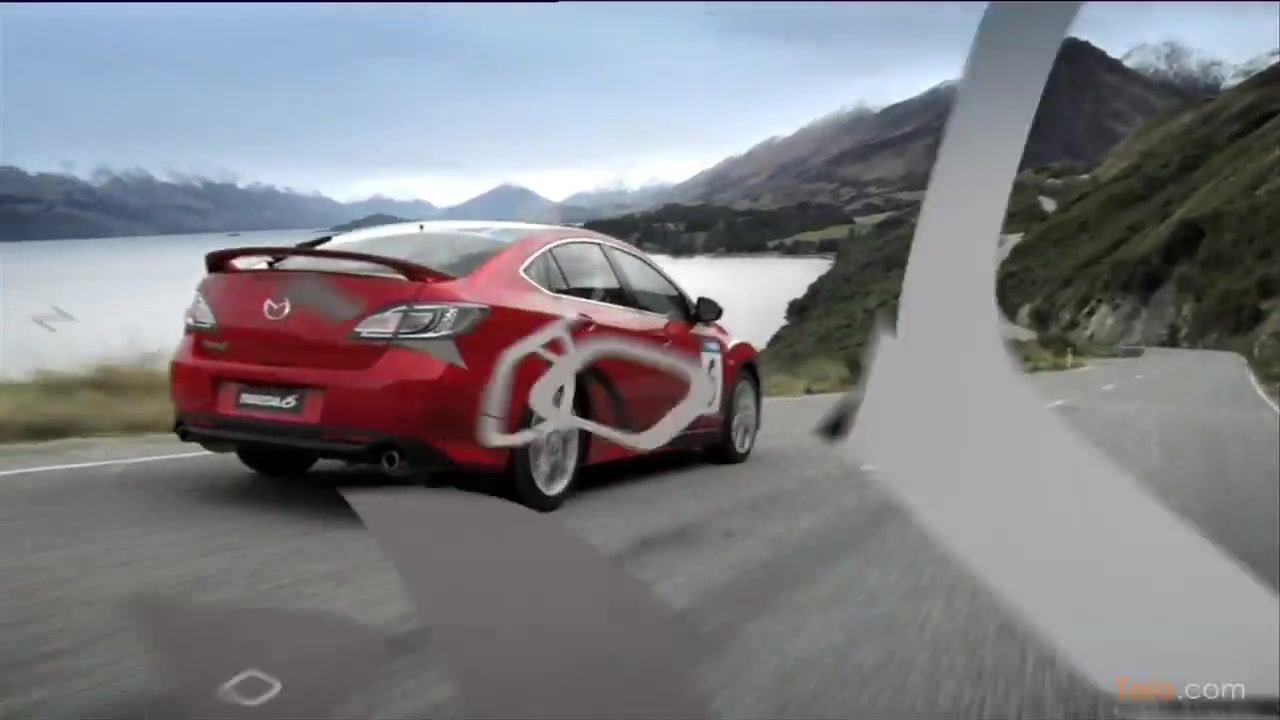car: (165, 213, 766, 517)
